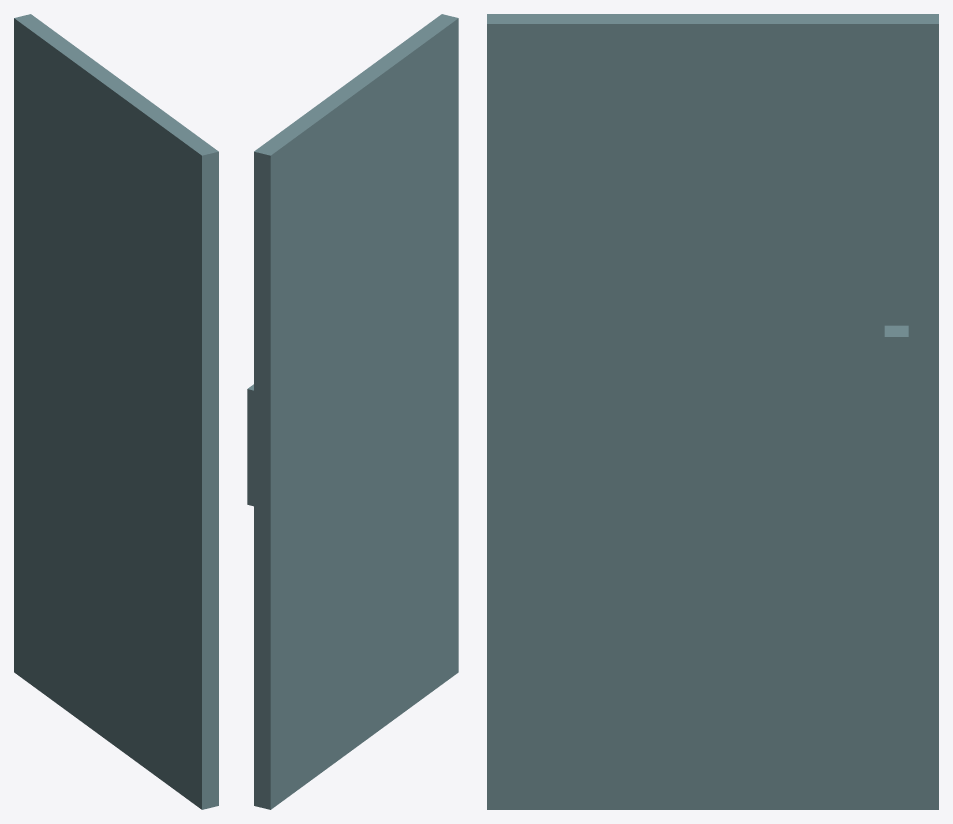
File: Cabinet_Big_Door.001.fbx
3 renders of one model, left to right at view 1: azimuth 30°, elevation 25°; view 2: azimuth 150°, elevation 25°; view 3: azimuth 270°, elevation 25°, orthographic. The views are drawn at different scales.
Parts seen in each view (by area): view 1: Cabinet_Big_Door.001; view 2: Cabinet_Big_Door.001; view 3: Cabinet_Big_Door.001.
Boxes of the visible parts, x1=… form: Cabinet_Big_Door.001: x1=14, y1=14, x2=218, y2=809; Cabinet_Big_Door.001: x1=247, y1=14, x2=458, y2=809; Cabinet_Big_Door.001: x1=487, y1=14, x2=938, y2=809.
Bounding box in the file's own units: 7.35 × 128 × 66.51.
